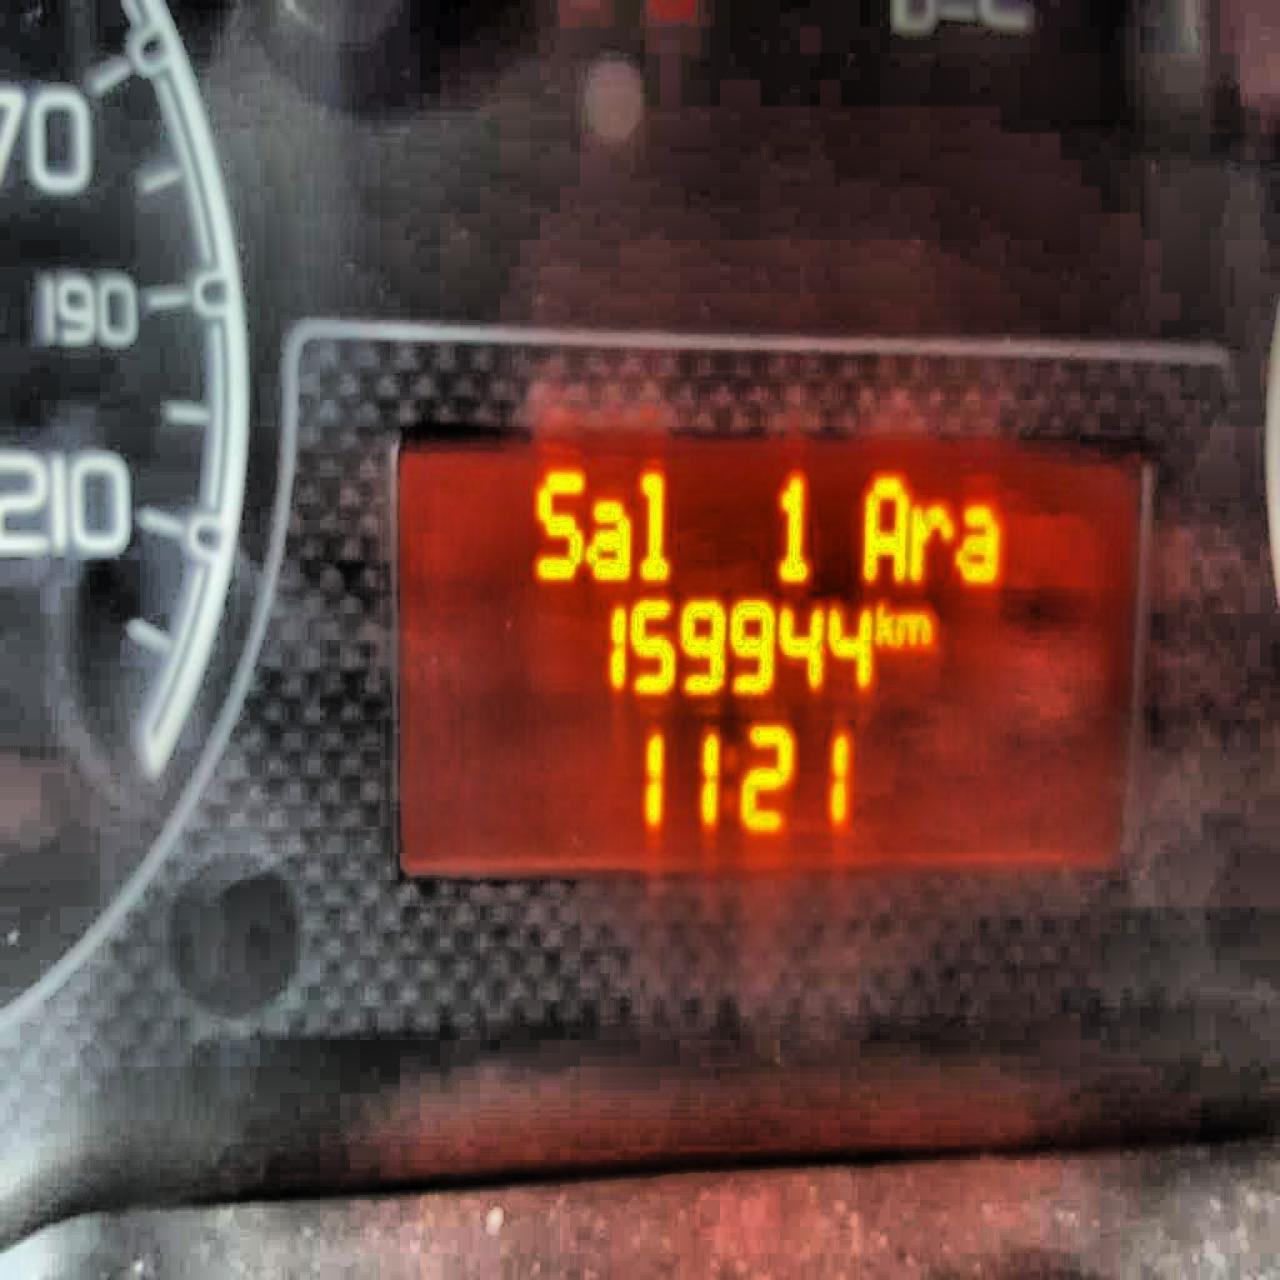1: (772, 467, 810, 586), (644, 727, 665, 837), (700, 726, 719, 837), (830, 723, 849, 829), (607, 597, 626, 690)
2: (742, 719, 797, 838)
4: (776, 598, 826, 687), (826, 597, 872, 692)
5: (629, 592, 675, 695)
9: (730, 595, 774, 695), (681, 594, 722, 693)
X: (536, 463, 583, 584), (864, 467, 907, 584), (634, 465, 672, 585), (955, 495, 1001, 585), (585, 491, 631, 581), (908, 495, 953, 585), (896, 607, 940, 651), (874, 597, 896, 651)
odometer: (387, 409, 1151, 884)
